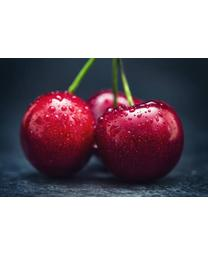cherry: (95, 99, 183, 177), (20, 91, 94, 176)
